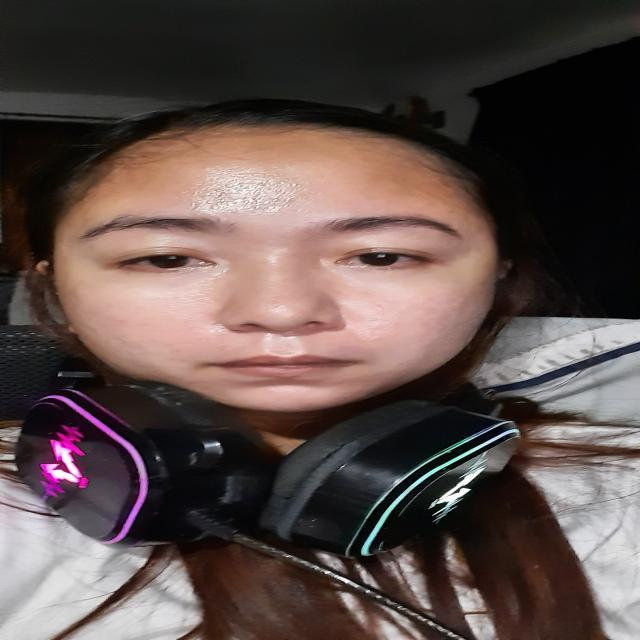eyebrow: (77, 215, 239, 238), (331, 214, 465, 238)
